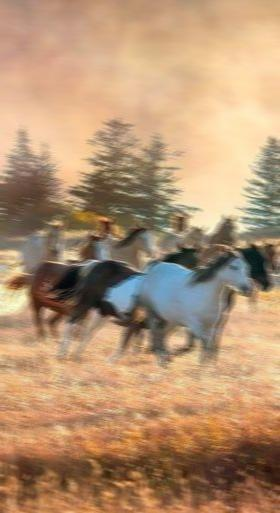horse: (131, 256, 258, 378), (17, 202, 75, 263)
